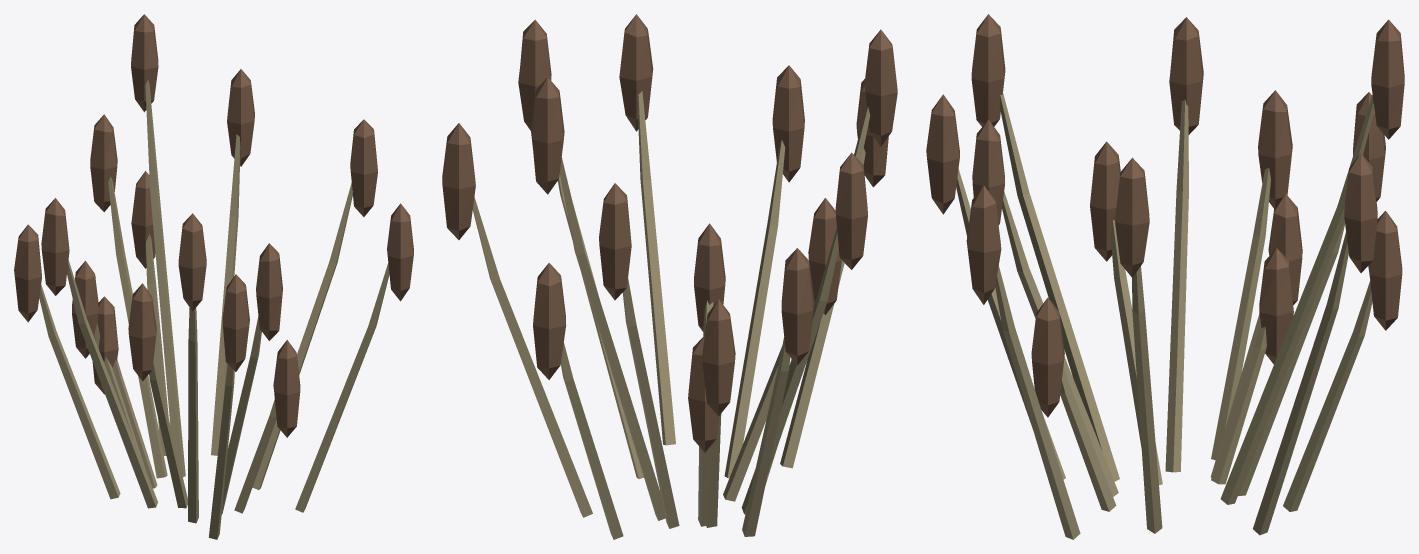
The model's file is PLANT_09_WinterReeds.glb.
3 renders of one model, left to right at view 1: azimuth 30°, elevation 25°; view 2: azimuth 150°, elevation 25°; view 3: azimuth 270°, elevation 25°, orthographic. The views are drawn at different scales.
Visible parts, largest first — view 1: PLANT_09_WinterReeds; view 2: PLANT_09_WinterReeds; view 3: PLANT_09_WinterReeds.
Boxes of the visible parts, x1,y1,x2,y2 form: PLANT_09_WinterReeds: (14, 14, 413, 539); PLANT_09_WinterReeds: (442, 14, 897, 539); PLANT_09_WinterReeds: (926, 14, 1404, 539).
Size of the model in its own units: 1.27 by 1.58 by 1.37.
